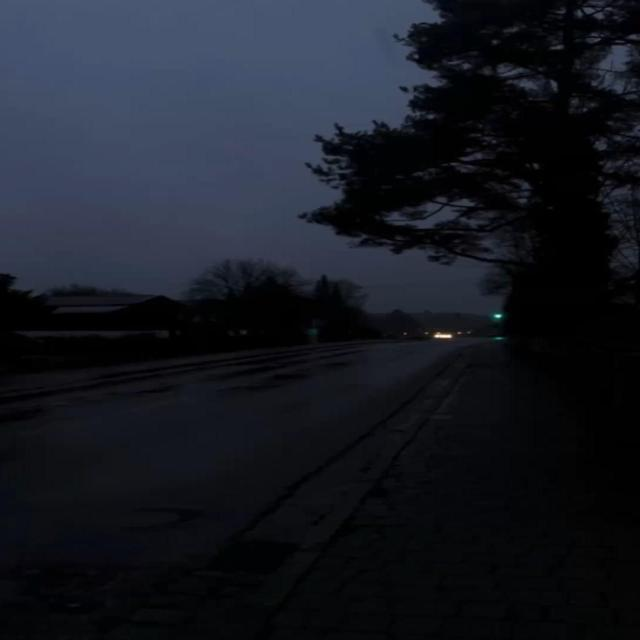on: (410, 266, 542, 364)
